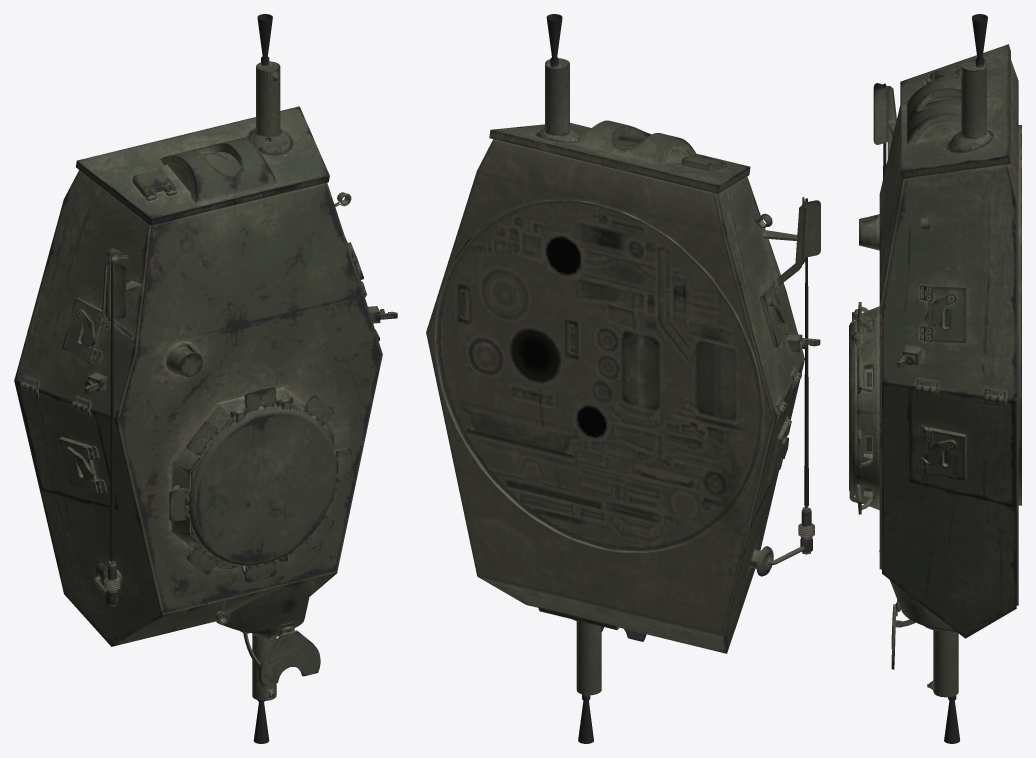
The model's file is Turret_01.glb.
3 renders of one model, left to right at view 1: azimuth 30°, elevation 25°; view 2: azimuth 150°, elevation 25°; view 3: azimuth 270°, elevation 25°, orthographic. The views are drawn at different scales.
Visible parts, largest first — view 1: set_0_group_0; view 2: set_0_group_0; view 3: set_0_group_0.
Boxes of the visible parts, x1,y1,x2,y2 form: set_0_group_0: (14,14,397,743); set_0_group_0: (426,14,820,743); set_0_group_0: (849,14,1021,743).
Size of the model in its own units: 1.68 by 3.33 by 0.7133.
Materials: 1 (1 with a texture image).
